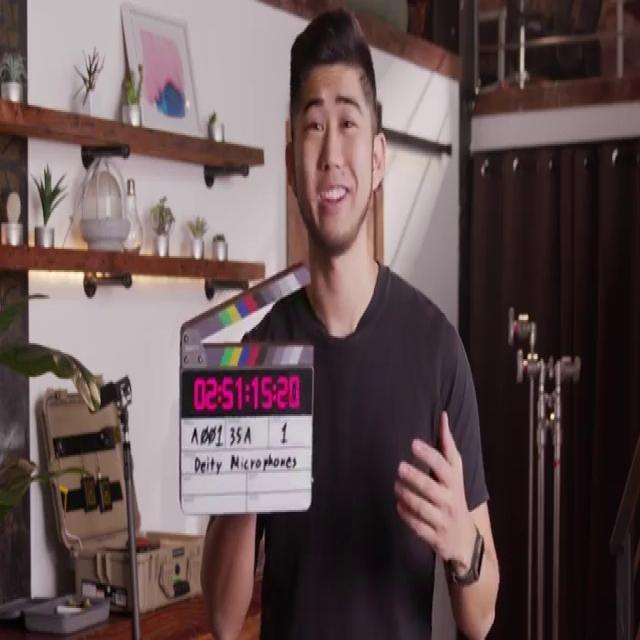Clapperboard: (179, 261, 317, 519)
